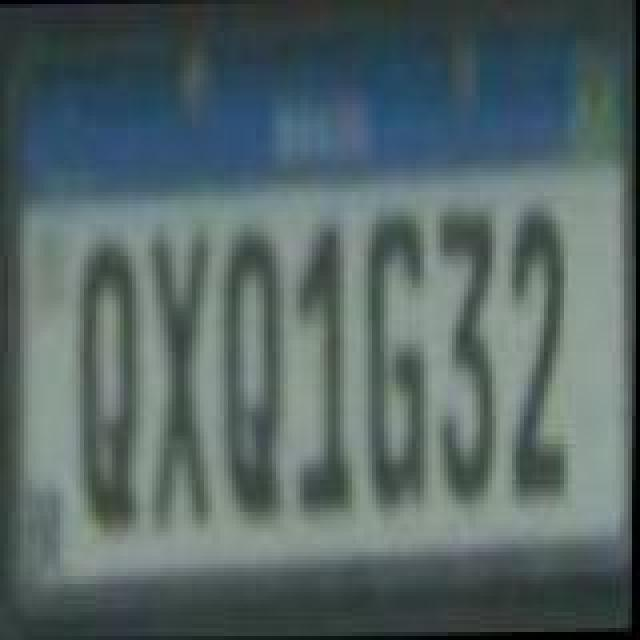1: (290, 224, 358, 516)
2: (506, 206, 574, 498)
3: (436, 210, 500, 502)
G: (362, 214, 430, 514)
Q: (76, 246, 144, 530), (218, 234, 286, 518)
X: (148, 230, 216, 530)
